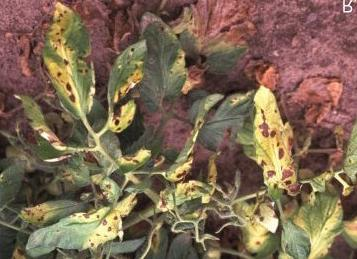Tomato Early blight leaf: (28, 186, 147, 259), (49, 13, 102, 122), (97, 44, 151, 132), (256, 90, 295, 195), (167, 107, 221, 179)
